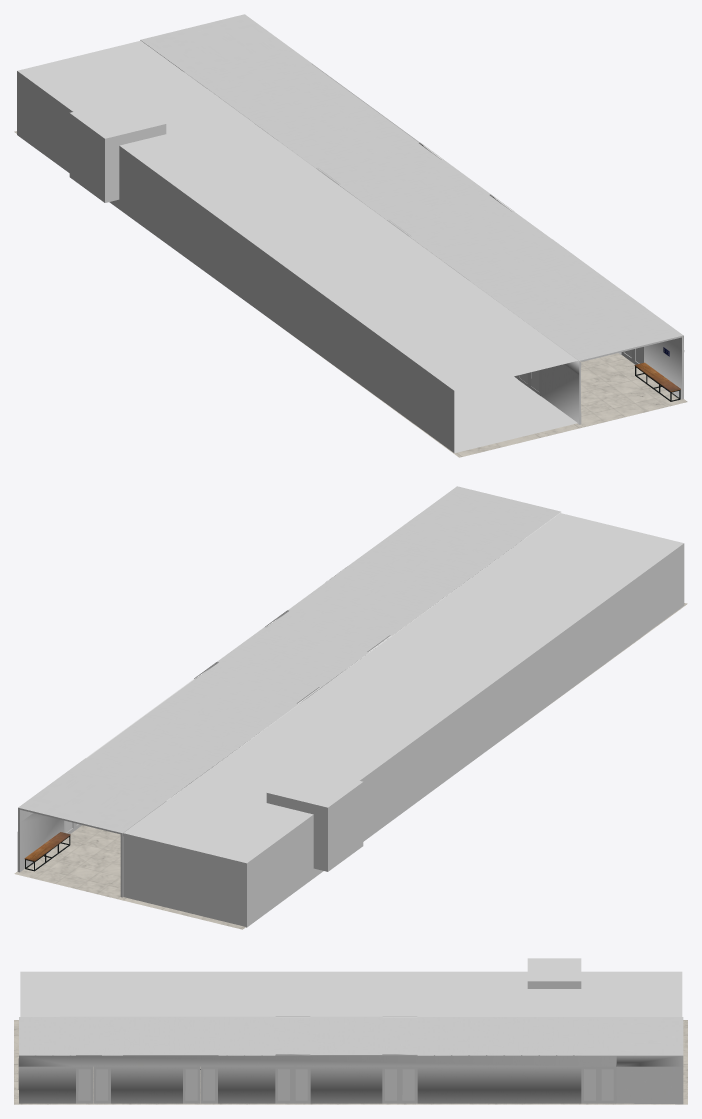
Rendered from F0_fixed.fbx.
3 views of the same model, one above another, from view 1: azimuth 30°, elevation 25°; view 2: azimuth 150°, elevation 25°; view 3: azimuth 270°, elevation 25° (orthographic). The views are drawn at different scales.
Parts seen in each view (by area): view 1: Cube.002, Cube.012, Cube, Plane.005, Plane.083; view 2: Cube.002, Cube.012, Cube, Plane.005; view 3: Cube.012, Cube.002, Plane.005, Cube, Plane.058, Plane.054, Plane.062, Plane.044, Plane.050, Plane.049, Plane.053, Plane.056 (+8 smaller).
Part boxes in pixels (<box>): Cube.002: <box>17,40,577,453</box>; Cube.012: <box>140,14,684,424</box>; Cube: <box>69,98,166,202</box>; Plane.005: <box>14,131,687,457</box>; Plane.083: <box>634,362,680,401</box>; Cube.002: <box>123,513,684,927</box>; Cube.012: <box>17,486,561,897</box>; Cube: <box>266,767,363,871</box>; Plane.005: <box>14,603,687,929</box>; Cube.012: <box>18,1016,683,1104</box>; Cube.002: <box>20,971,682,1016</box>; Plane.005: <box>14,1020,687,1104</box>; Cube: <box>527,958,581,988</box>; Plane.058: <box>382,1066,417,1103</box>; Plane.054: <box>275,1066,310,1103</box>; Plane.062: <box>581,1066,616,1103</box>; Plane.044: <box>76,1066,110,1103</box>; Plane.050: <box>183,1066,217,1103</box>; Plane.049: <box>78,1069,90,1100</box>; Plane.053: <box>185,1069,197,1100</box>; Plane.056: <box>295,1069,307,1100</box>.
Bounding box in the file's own units: 793 × 232 × 2512.
9 materials, 4 textured.
